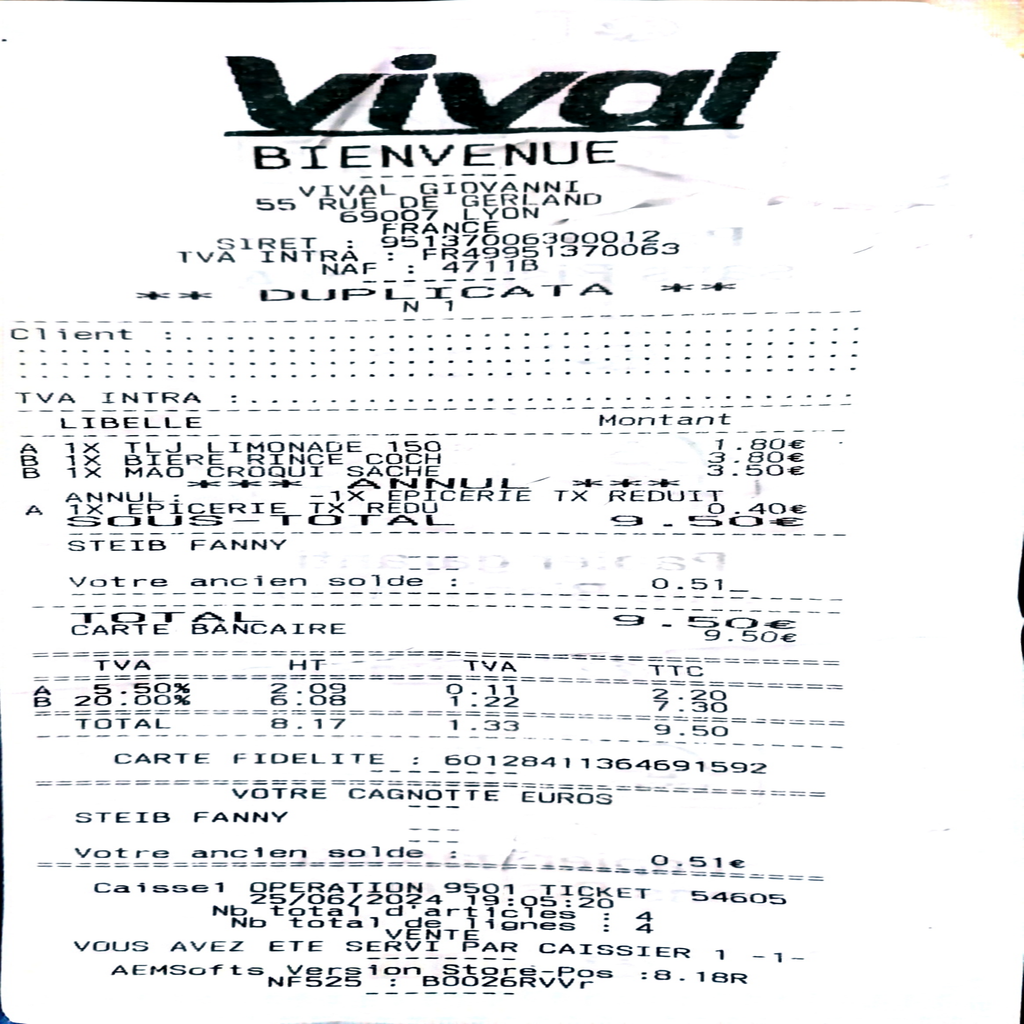recipt: (4, 4, 1016, 1016)
